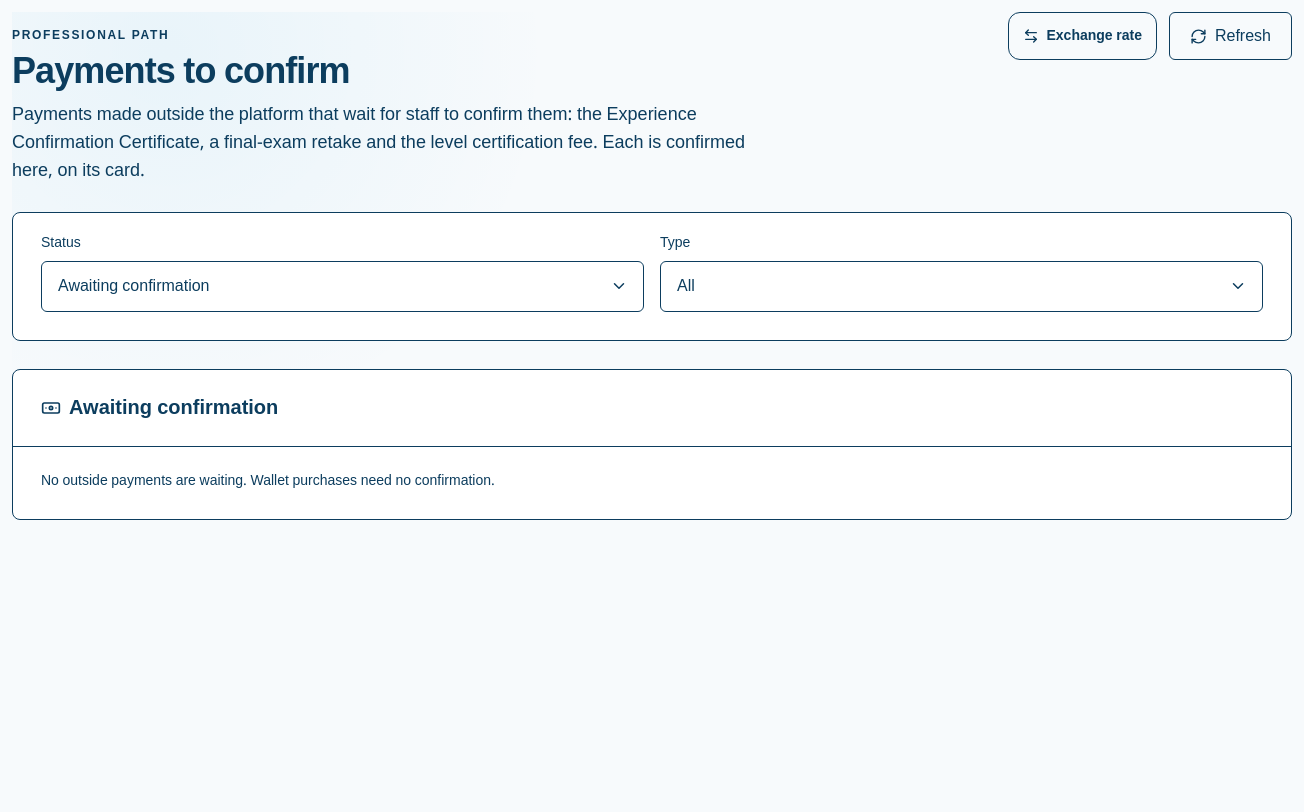
review of 18 Oct 2026 › says "nothing matches this filter", with a way back, when a non-default filter finds nothing
Expected: the text "No outside payments are waiting. Wallet purchases need no confirmation." is shown, top-left (41, 466), bottom-right (495, 495)
Step 1. Select "Paid" in the dropdown labelled "Status" → (342, 286), box top-left (41, 261), bottom-right (644, 312)
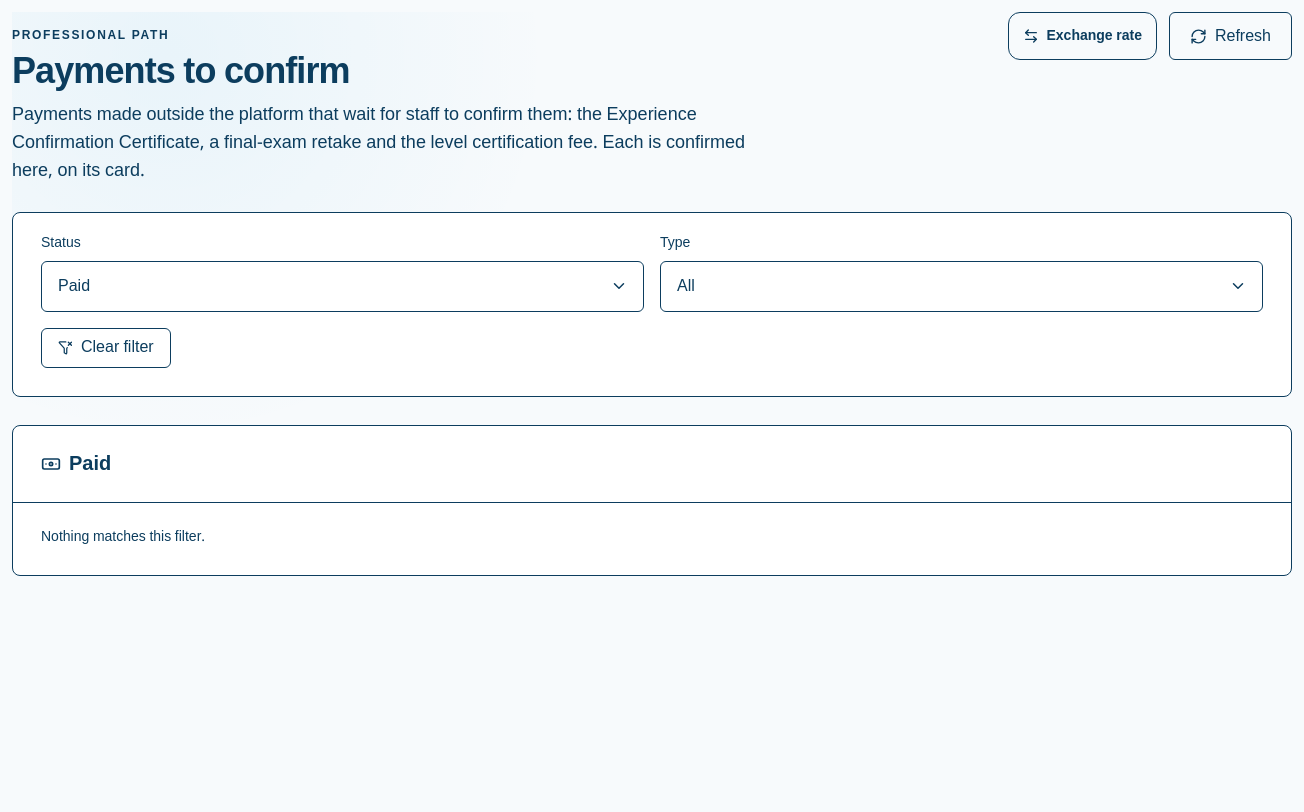
Expected: the text "Nothing matches this filter." is shown, top-left (41, 522), bottom-right (205, 551)
Expected: the text "No outside payments are waiting. Wallet purchases need no confirmation." is gone
Step 2. Click the button "Clear filter" → click(106, 348), box top-left (41, 328), bottom-right (171, 368)
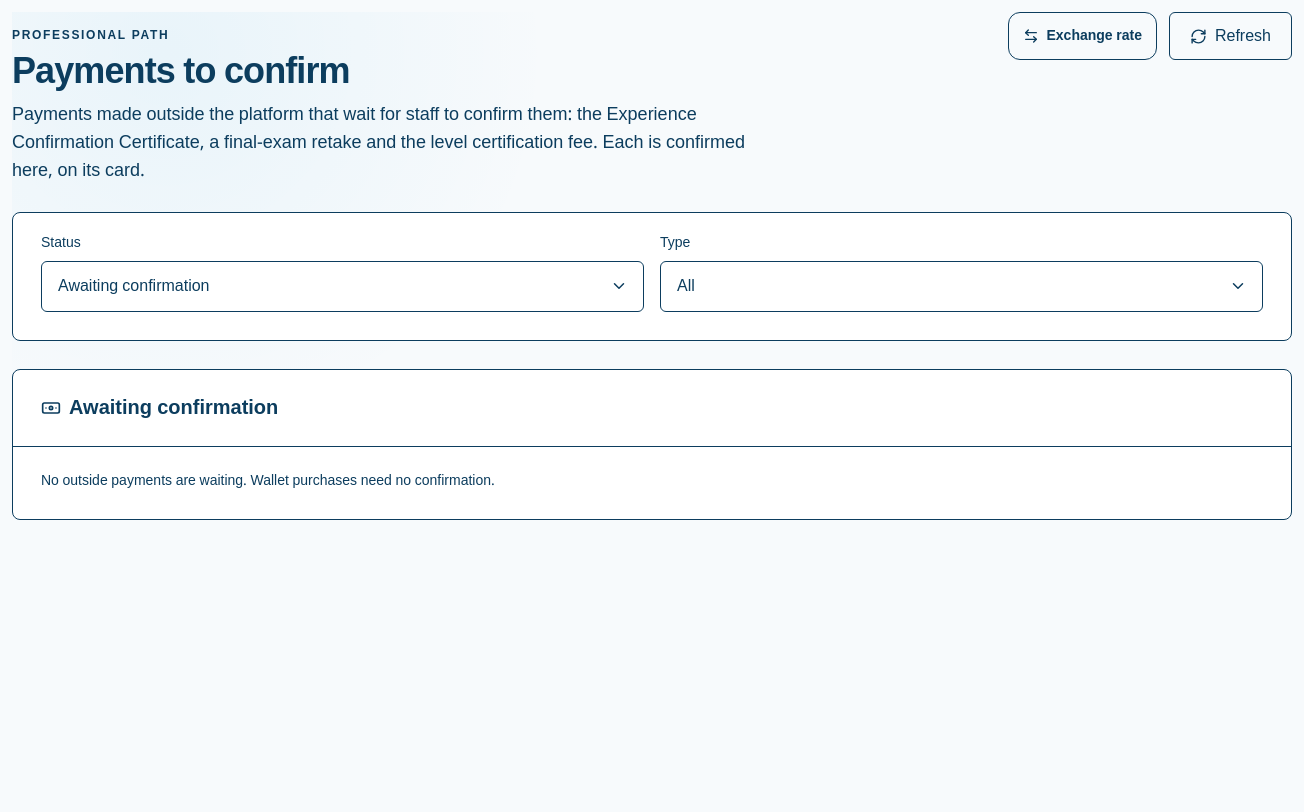
Expected: the text "No outside payments are waiting. Wallet purchases need no confirmation." is shown, top-left (41, 466), bottom-right (495, 495)
